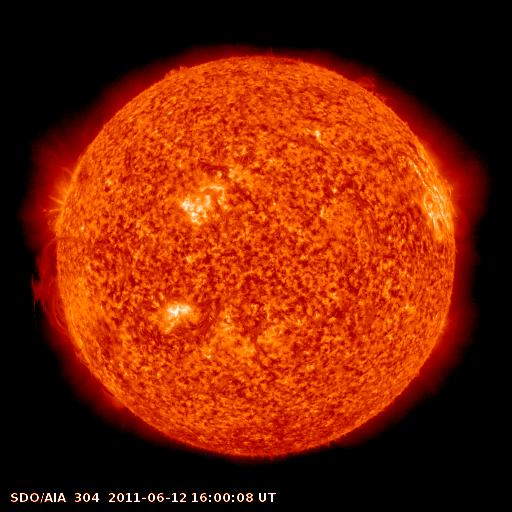prominence: (27, 237, 129, 413), (344, 67, 395, 107), (156, 58, 194, 85)
